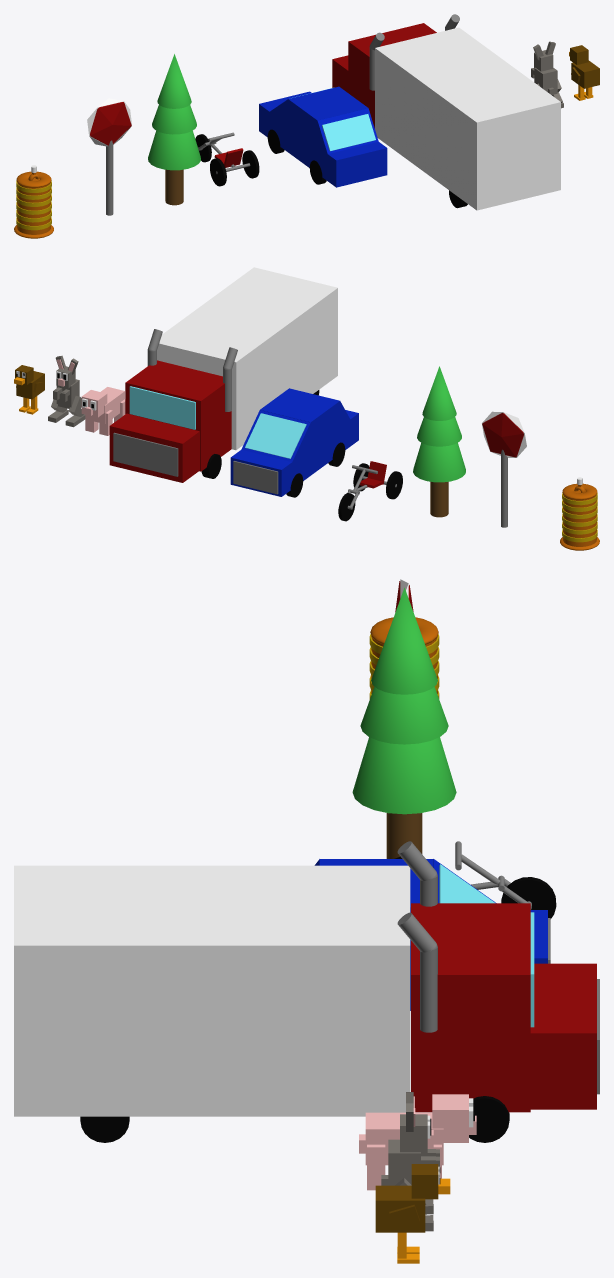
3 renders of one model, top to bottom at view 1: azimuth 30°, elevation 25°; view 2: azimuth 150°, elevation 25°; view 3: azimuth 270°, elevation 25°, orthographic. The views are drawn at different scales.
Visible parts, largest first — view 1: BigRig_Cargo, Car_Body, BigRig_Cab, Car_Trunk, Tree_Leaves_Bottom, Car_Window_B, StopSign_Inner_Color, Car_Window_Frame_B, Tree_Leaves_Top, Tree_Leaves_Mid, Car_Engine, TrafficCone_Body (+12 smaller); view 2: BigRig_Cargo, BigRig_Cab, BigRig_Engine_Block, Car_Body, BigRig_Grill, BigRig_Window, Car_Window_F, Tree_Leaves_Bottom, Car_Engine, StopSign_Inner_Color, Car_Grill, Tree_Leaves_Top (+12 smaller); view 3: BigRig_Cargo, BigRig_Cab, BigRig_Engine_Block, Tree_Leaves_Bottom, Tree_Leaves_Top, Tree_Leaves_Mid, Chicken_Body, Pig_Head, Pig_Body, Exhaust_Bottom, BigRig_Wheel_F_R, Tree_Trunk (+7 smaller).
Part boxes in pixels (left/top/right/bottom): BigRig_Cargo: left=375, top=27, right=560, bottom=210; Car_Body: left=288, top=86, right=368, bottom=167; BigRig_Cab: left=348, top=23, right=436, bottom=128; Car_Trunk: left=322, top=141, right=387, bottom=187; Tree_Leaves_Bottom: left=148, top=130, right=200, bottom=170; Car_Window_B: left=322, top=114, right=375, bottom=151; StopSign_Inner_Color: left=90, top=102, right=131, bottom=145; Car_Window_Frame_B: left=306, top=108, right=378, bottom=172; Tree_Leaves_Top: left=157, top=54, right=191, bottom=108; Tree_Leaves_Mid: left=152, top=105, right=196, bottom=134; Car_Engine: left=259, top=91, right=311, bottom=152; TrafficCone_Body: left=17, top=177, right=50, bottom=234; BigRig_Cargo: left=157, top=267, right=337, bottom=450; BigRig_Cab: left=125, top=360, right=231, bottom=471; BigRig_Engine_Block: left=109, top=413, right=199, bottom=482; Car_Body: left=260, top=388, right=339, bottom=475; BigRig_Grill: left=113, top=432, right=178, bottom=476; BigRig_Window: left=129, top=386, right=195, bottom=429; Car_Window_F: left=245, top=413, right=306, bottom=458; Tree_Leaves_Bottom: left=413, top=442, right=465, bottom=482; Car_Engine: left=230, top=449, right=310, bottom=496; StopSign_Inner_Color: left=482, top=413, right=523, bottom=457; Car_Grill: left=233, top=461, right=278, bottom=494; Tree_Leaves_Top: left=422, top=366, right=456, bottom=420; BigRig_Cargo: left=14, top=865, right=410, bottom=1116; BigRig_Cab: left=411, top=903, right=530, bottom=1112; BigRig_Engine_Block: left=530, top=963, right=596, bottom=1109; Tree_Leaves_Bottom: left=352, top=737, right=456, bottom=814; Tree_Leaves_Top: left=371, top=587, right=437, bottom=694; Tree_Leaves_Mid: left=360, top=686, right=448, bottom=744; Chicken_Body: left=375, top=1185, right=425, bottom=1232; Pig_Head: left=432, top=1094, right=468, bottom=1142; Pig_Body: left=365, top=1112, right=443, bottom=1165; Exhaust_Bottom: left=420, top=947, right=437, bottom=1032; BigRig_Wheel_F_R: left=469, top=1096, right=509, bottom=1142; Tree_Trunk: left=386, top=813, right=422, bottom=858.
Size of the model in its own units: 73.14 by 17.88 by 33.03.
